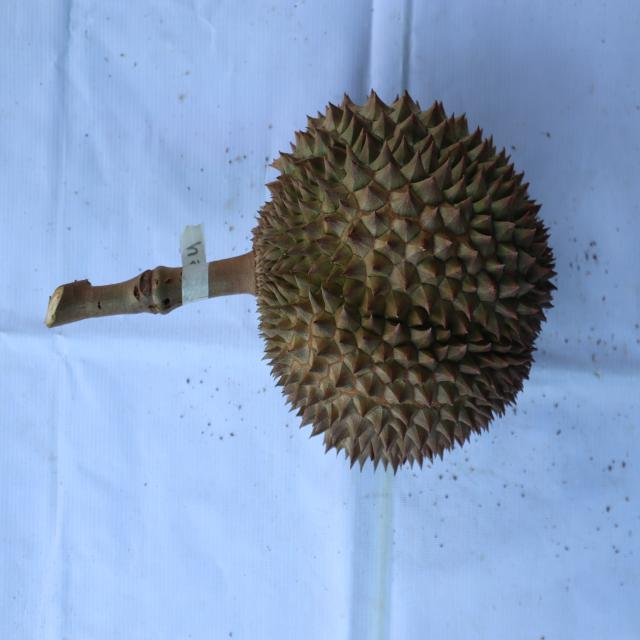mature: (254, 89, 559, 468)
